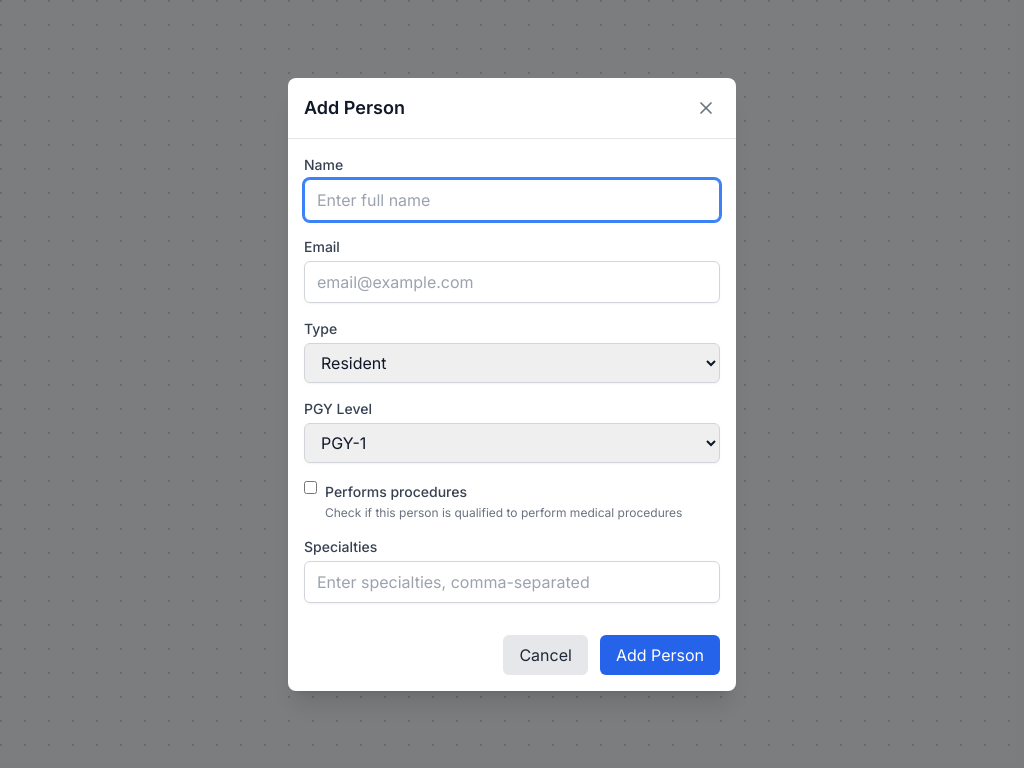
AddPersonModal › Conditional PGY Level Field › should show PGY level field again when switching back to resident
The image size is (1024, 768).
Note: Change to faculty
Select "Faculty" in the dropdown labelled "Type" at (512,362), box [304,342,720,382]
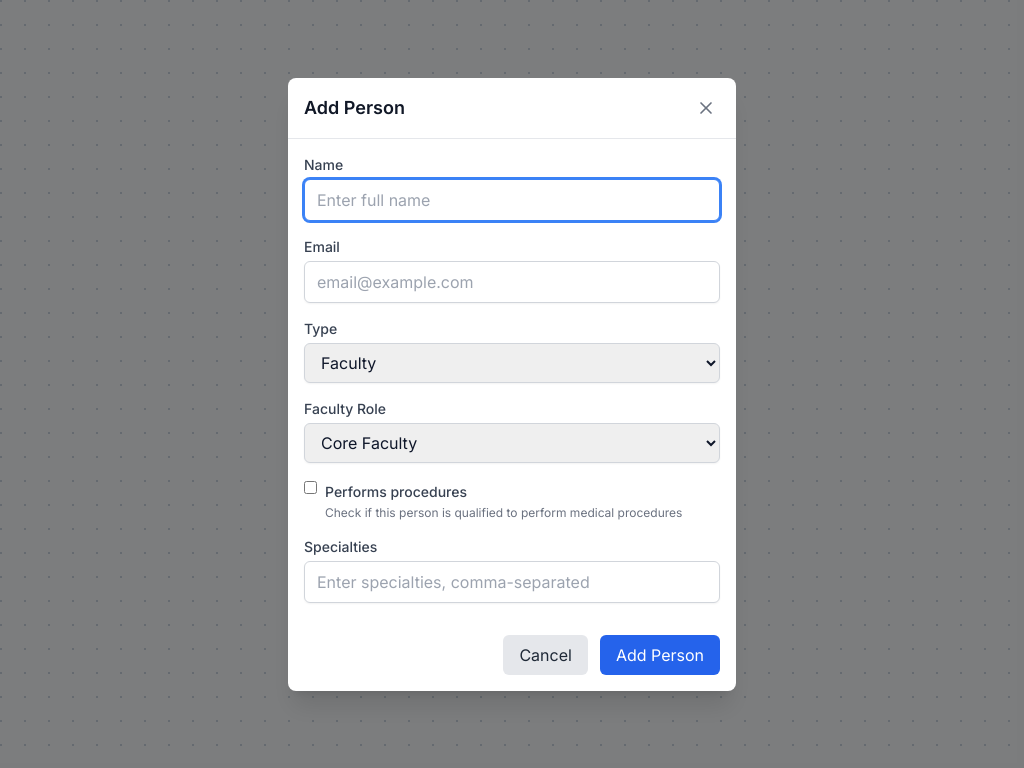
expect the label labelled "PGY Level" is gone: met
Note: Change back to resident
Select "Resident" in the dropdown labelled "Type" at (512,362), box [304,342,720,382]
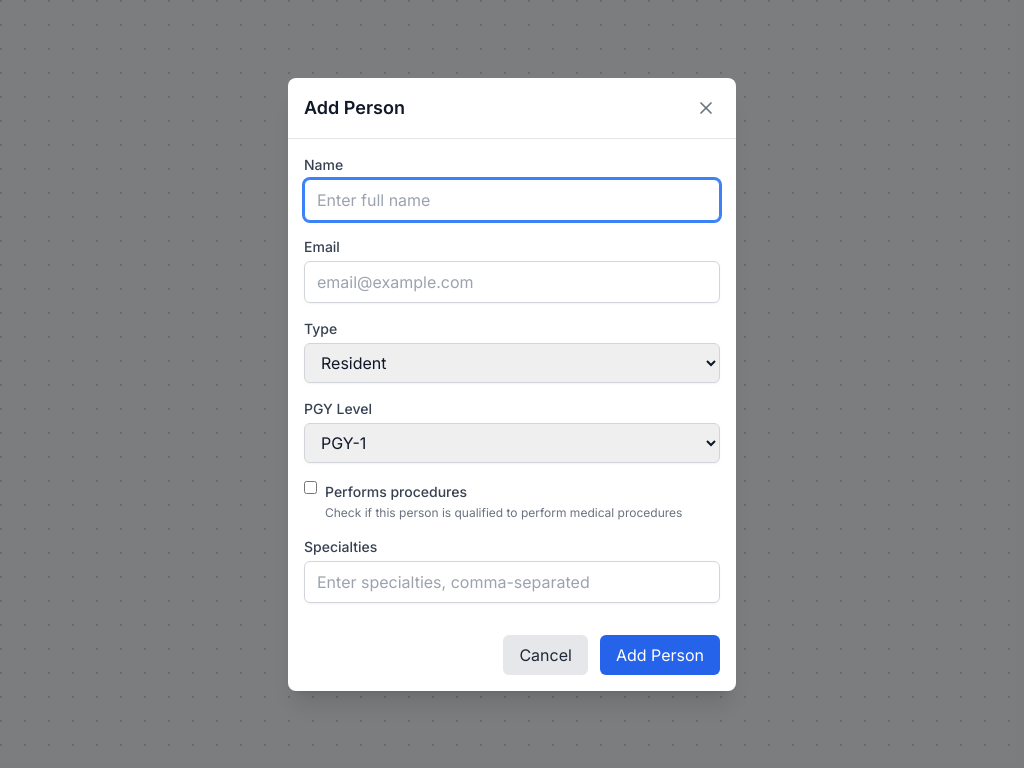
expect the dropdown labelled "PGY Level" is shown: met, box [304,422,720,462]
